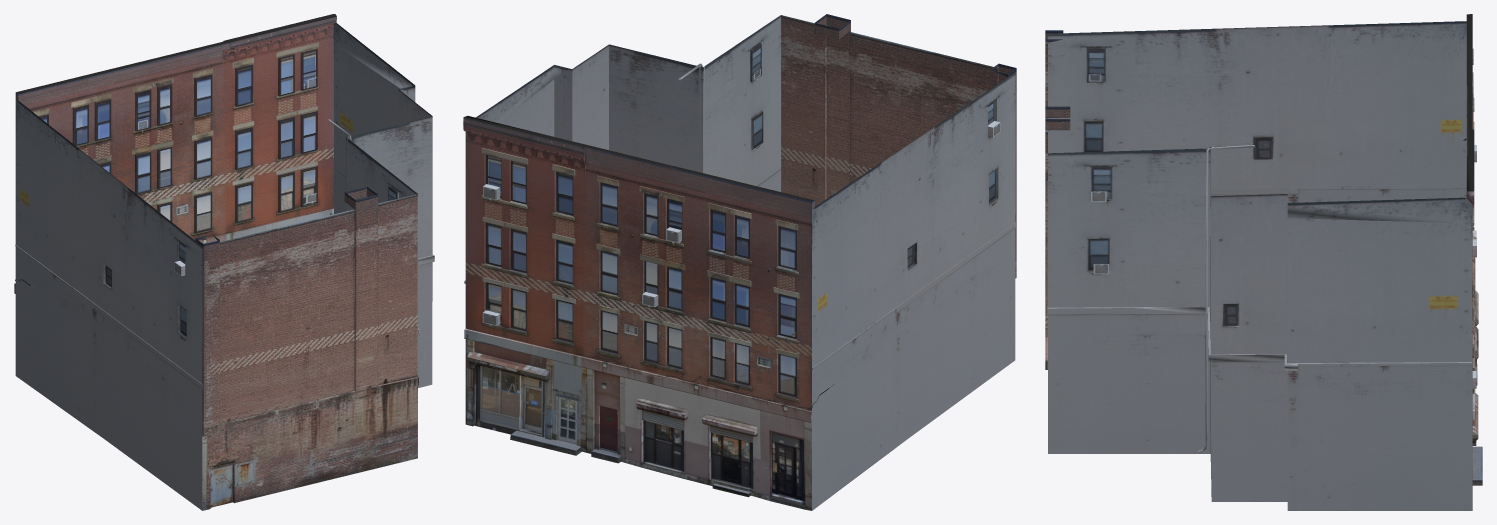
Rendered from brookl-poly.fbx.
3 views of the same model, side by side, from view 1: azimuth 30°, elevation 25°; view 2: azimuth 150°, elevation 25°; view 3: azimuth 270°, elevation 25° (orthographic). The views are drawn at different scales.
Parts seen in each view (by area): view 1: NYC_B3; view 2: NYC_B3; view 3: NYC_B3.
Part boxes in pixels (left/top/right/bottom): NYC_B3: left=14, top=14, right=434, bottom=510; NYC_B3: left=463, top=14, right=1016, bottom=510; NYC_B3: left=1045, top=14, right=1482, bottom=510.
Bounding box in the file's own units: 1771 × 1485 × 1821.
Materials: 1 (1 with a texture image).
